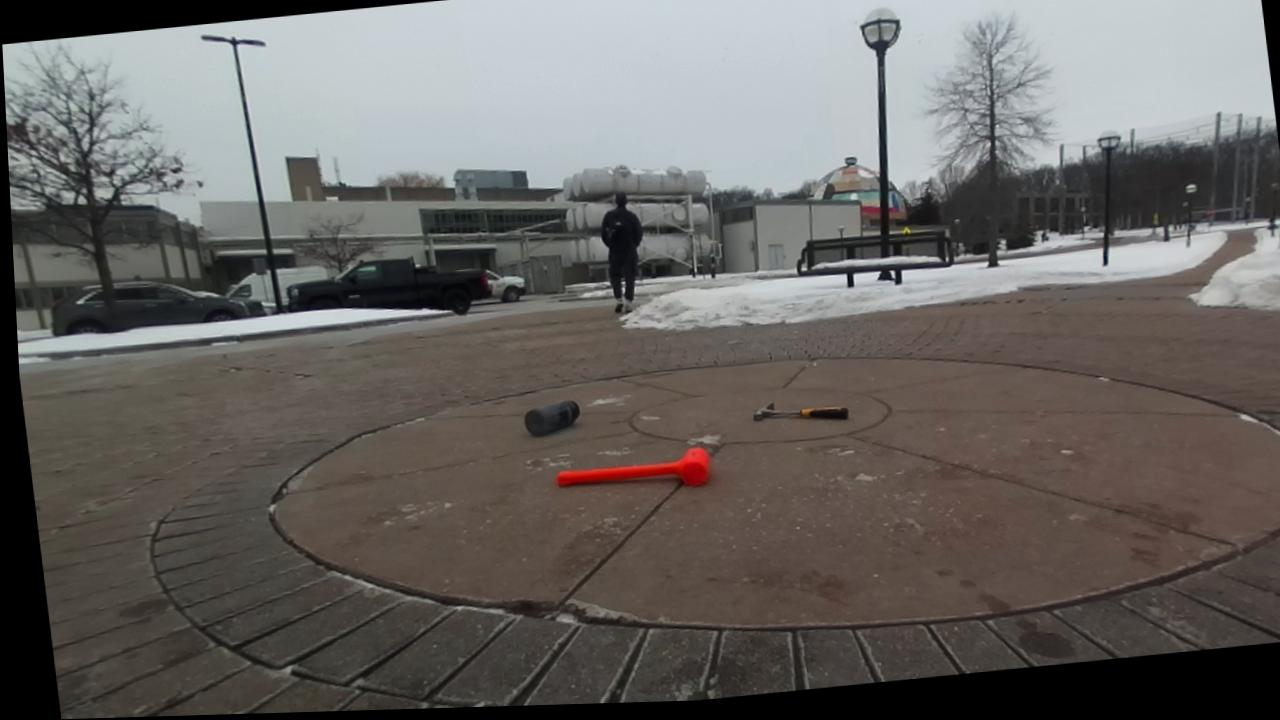bottle: (525, 399, 579, 436)
mallet: (557, 448, 709, 485)
pick: (753, 402, 848, 419)
